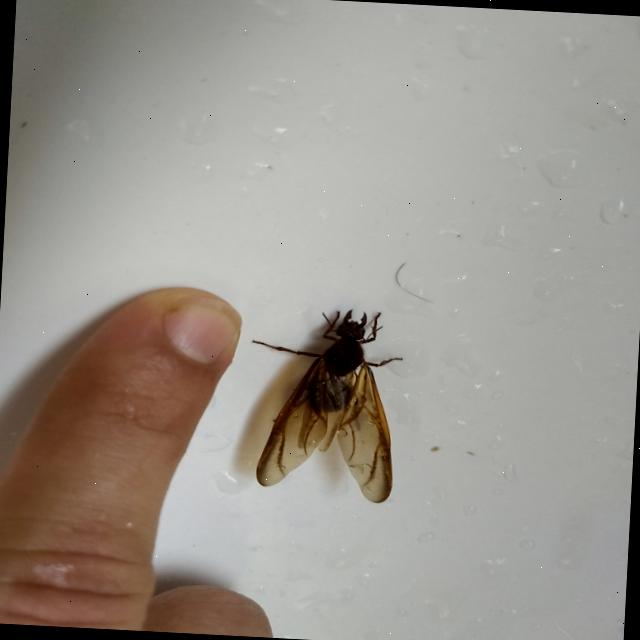Alive-Female-Alate: (238, 302, 408, 510)
